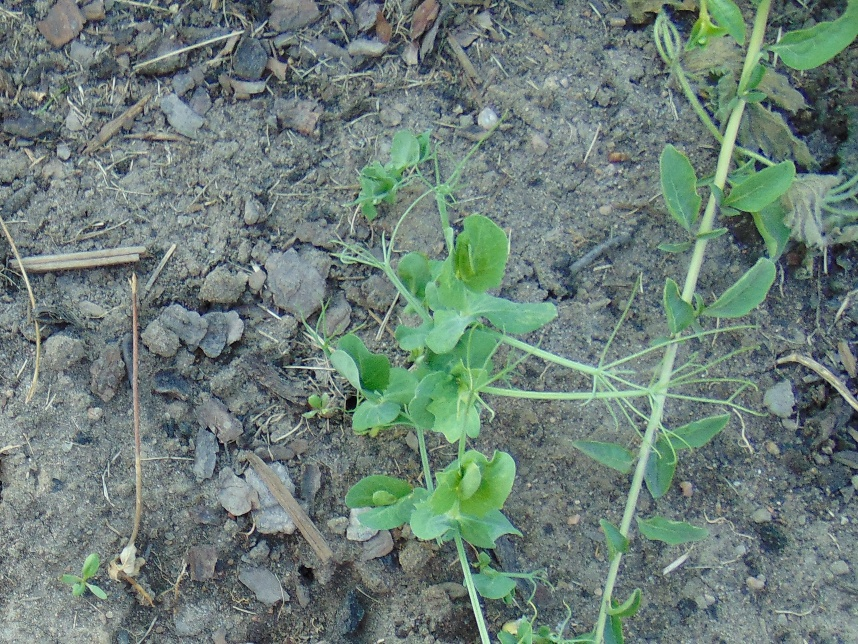crop: (342, 130, 560, 644), (307, 297, 667, 438)
weed: (651, 138, 794, 262), (671, 1, 858, 77), (568, 413, 727, 502), (662, 256, 781, 332), (564, 584, 644, 644), (599, 515, 707, 558), (714, 73, 767, 127), (62, 552, 107, 602)
